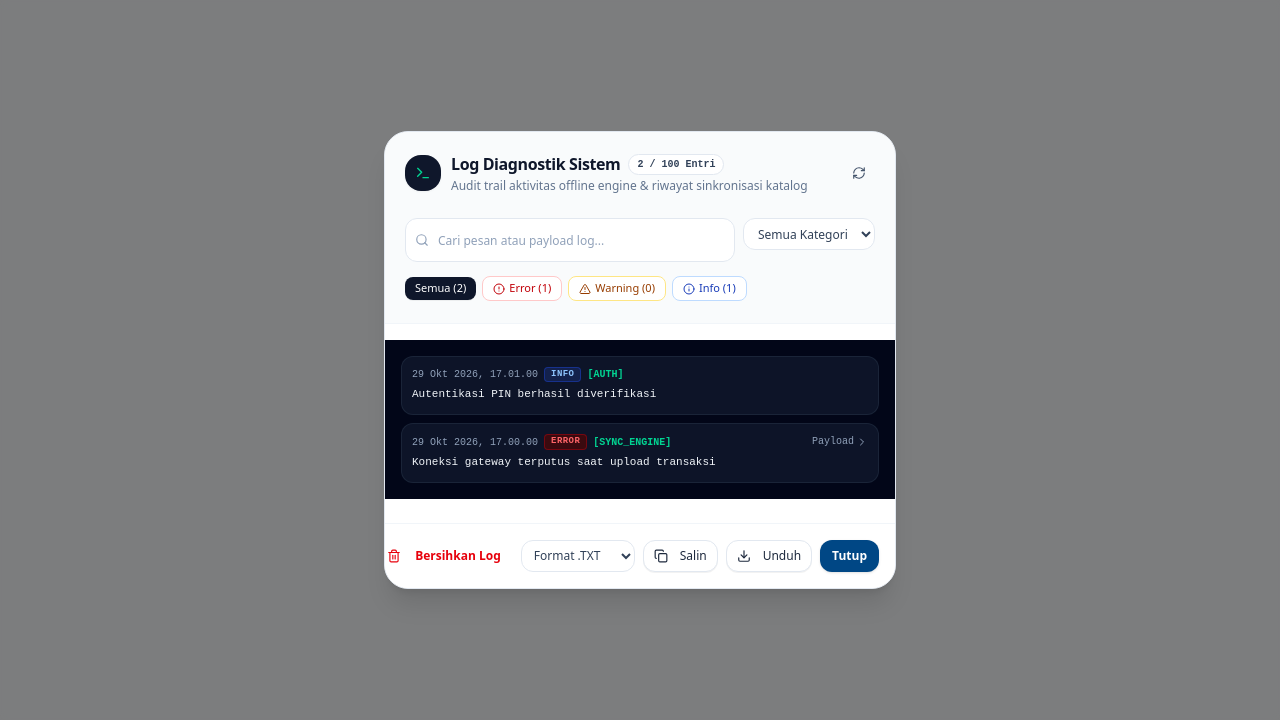
DiagnosticLogDialog Component Suite (Task P5.13) › renders list of diagnostic logs with tags and collapsible details
Expected: the text "Koneksi gateway terputus saat upload transaksi" is shown, [412,456,716,468]
Expected: the text "Autentikasi PIN berhasil diverifikasi" is shown, [412,388,656,400]
Click the button with aria-label "Lihat payload": (840, 442) [812,434,868,449]
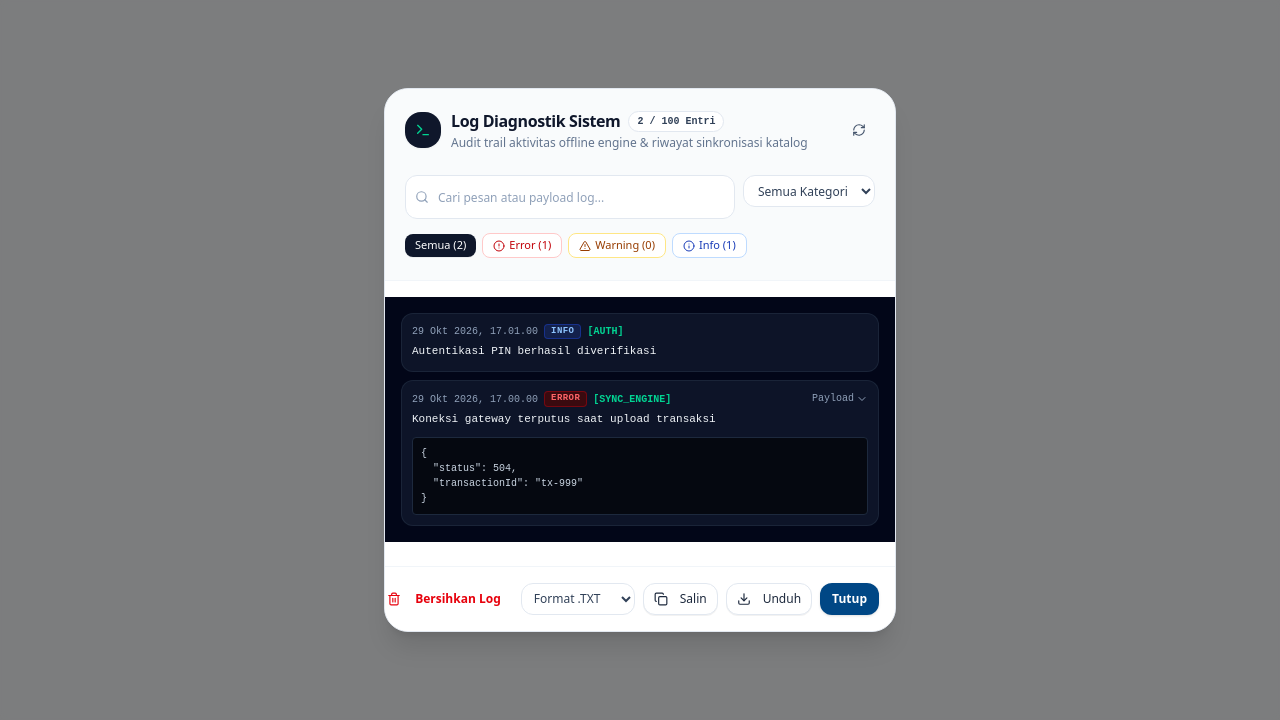
Now the text "{ \"status\": 504, \"transactionId\": \"tx-999\" }" is shown, box [412,437,868,515]
Click the button named "Lihat payload": (840, 399) [812,391,868,406]
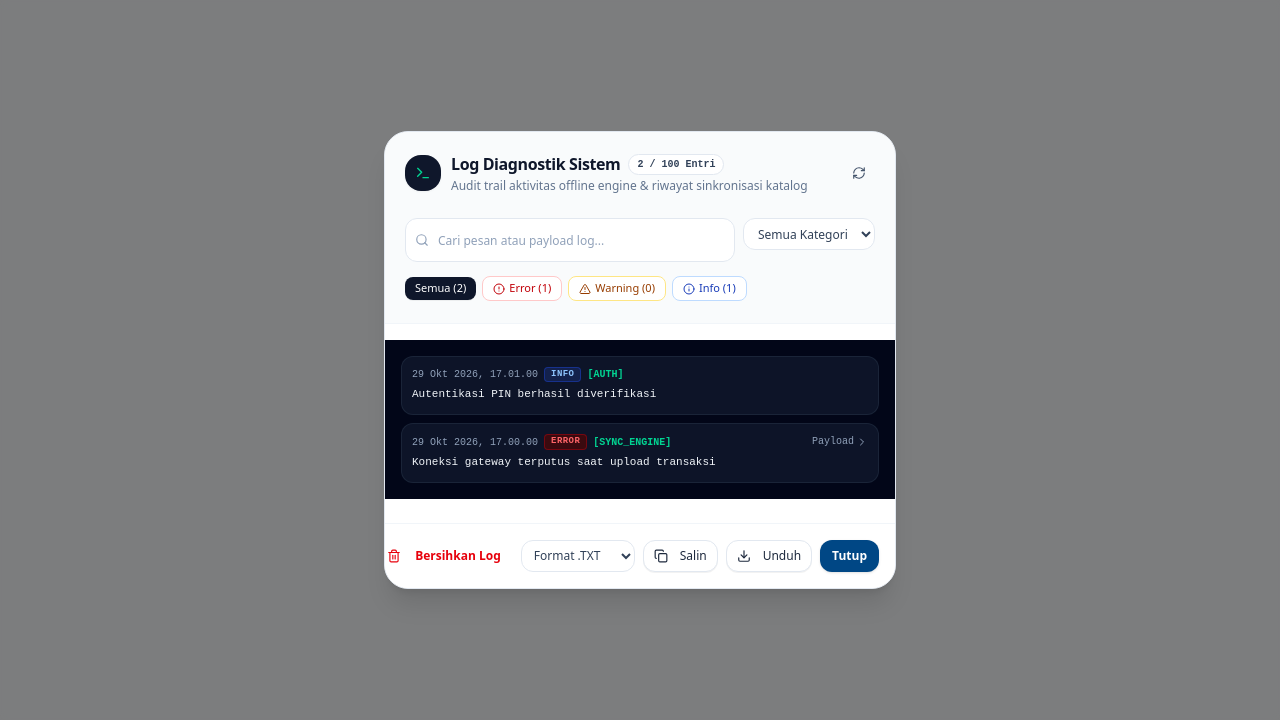
Now the text "\"transactionId\": \"tx-999\"" is gone
